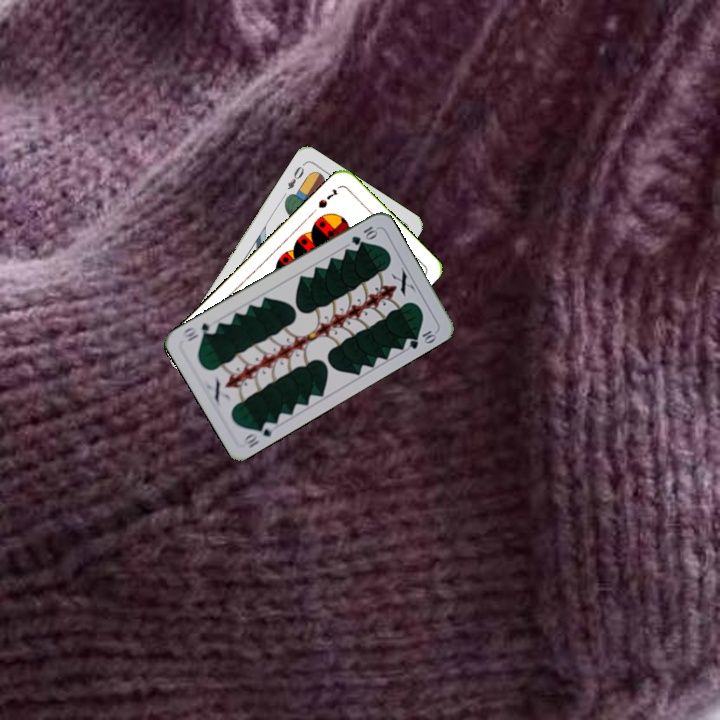EO: (283, 159, 308, 192)
G10: (239, 417, 275, 451), (347, 222, 380, 248)
S7: (314, 185, 341, 211)
